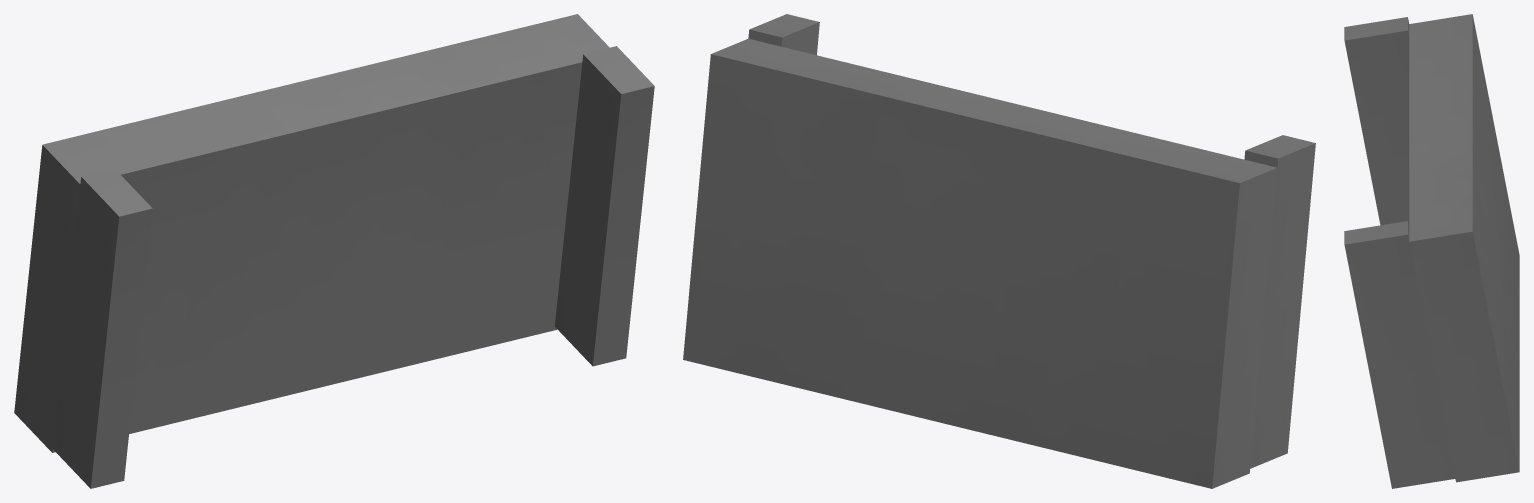
Rendered from dc_metro_arch_b5.obj.
3 renders of one model, left to right at view 1: azimuth 30°, elevation 25°; view 2: azimuth 150°, elevation 25°; view 3: azimuth 270°, elevation 25°, orthographic. The views are drawn at different scales.
Visible parts, largest first — view 1: part5; view 2: part5; view 3: part5.
Boxes of the visible parts, x1,y1,x2,y2 form: part5: [14, 14, 654, 488]; part5: [683, 14, 1315, 488]; part5: [1344, 14, 1519, 488].
Size of the model in its own units: 2 by 1.1 by 0.6796.
Materials: 1 (1 with a texture image).
